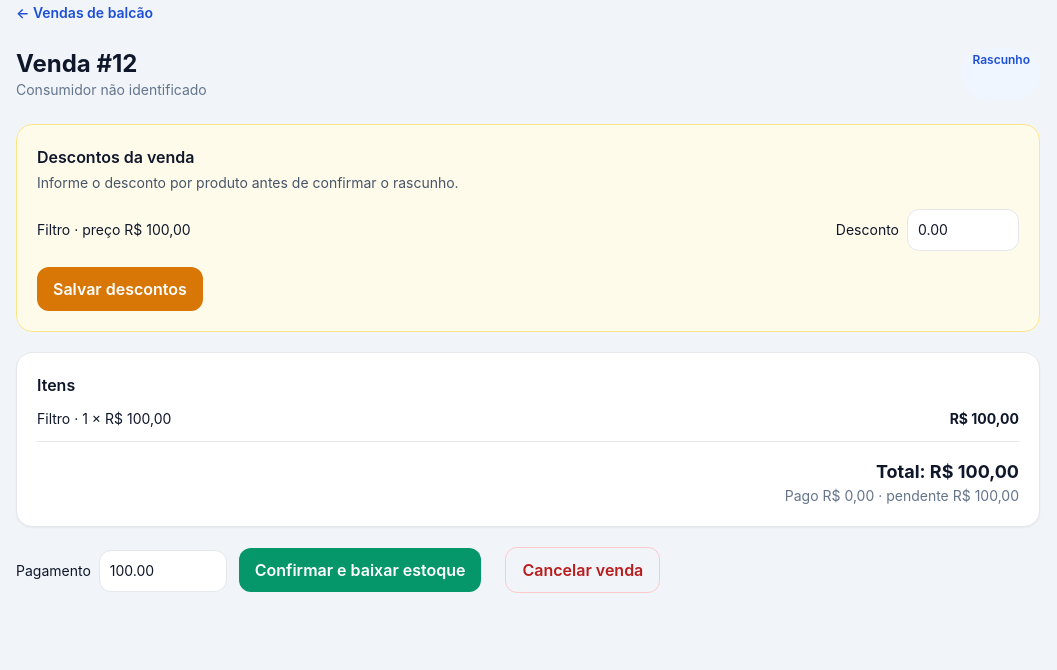
DirectSaleDetailPage › shows confirmation errors instead of leaving the page apparently unchanged
Click the button "Confirmar e baixar estoque" at (360, 570), box [239, 548, 482, 592]
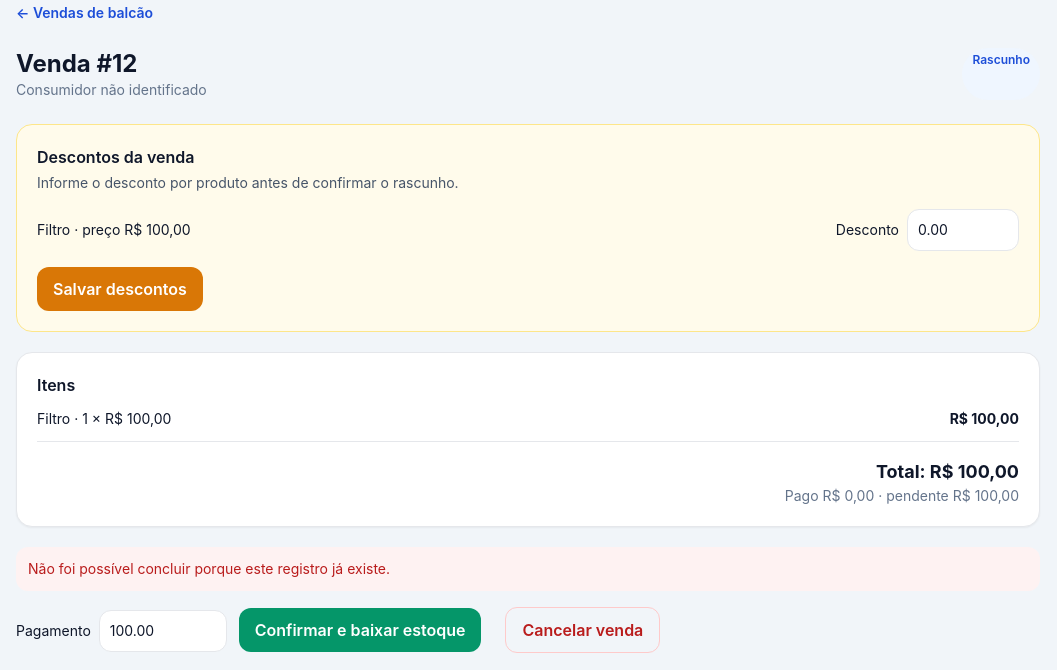
Expected: the message does not show "database secret", [16, 547, 1040, 591]
Expected: the message reads "Não foi possível concluir porque este registro já existe.", [28, 560, 390, 577]
